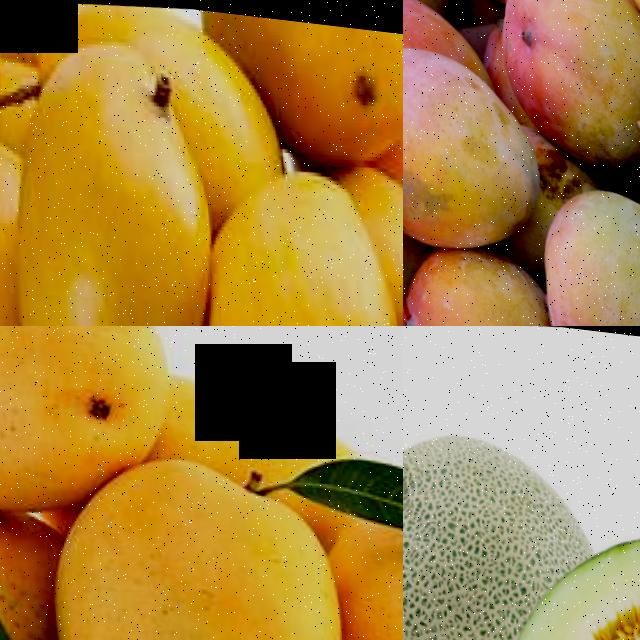mango: (0, 13, 227, 326), (49, 444, 361, 640), (184, 134, 403, 326), (0, 326, 180, 488), (403, 30, 529, 255), (494, 0, 635, 165), (532, 174, 640, 326), (403, 232, 547, 326)
melon: (403, 407, 516, 640)
